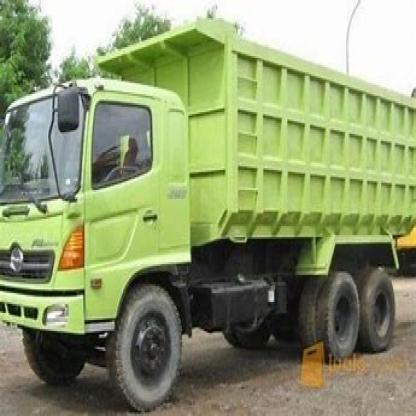dump_truck: (7, 14, 415, 394)
